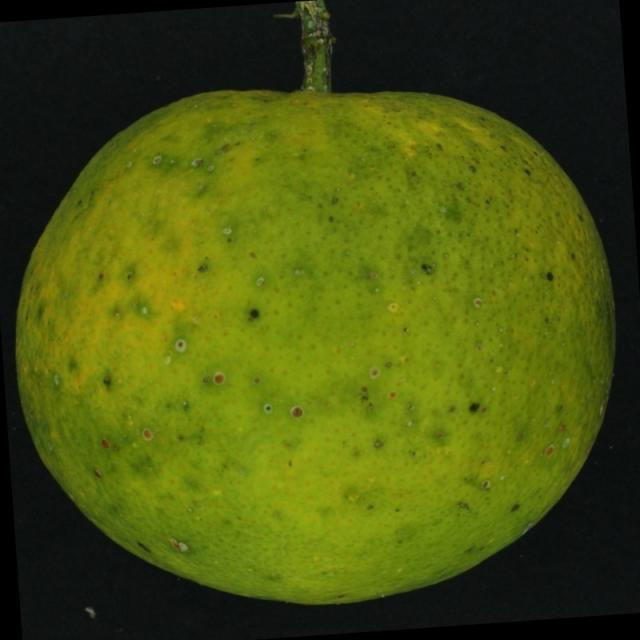grenning: (18, 44, 627, 630)
